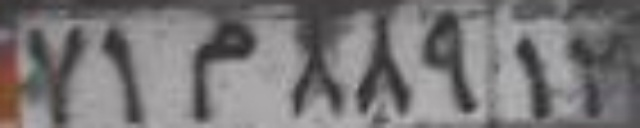1: (97, 23, 146, 122), (510, 34, 551, 118)
2: (562, 32, 626, 116)
7: (21, 20, 88, 127)
8: (282, 16, 347, 117), (357, 13, 414, 116)
9: (420, 12, 477, 114)
mim: (185, 19, 259, 121)
